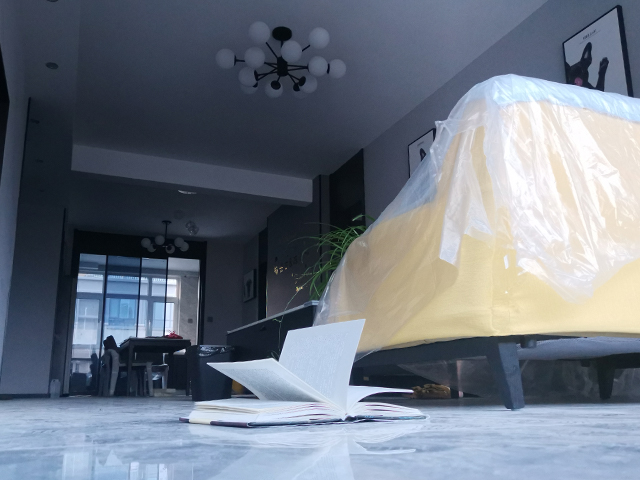book: (176, 317, 427, 429)
sofa: (309, 71, 640, 415)
stool: (98, 333, 153, 397)
table: (224, 299, 322, 398), (119, 336, 193, 397)
trashcan: (184, 343, 238, 401)
